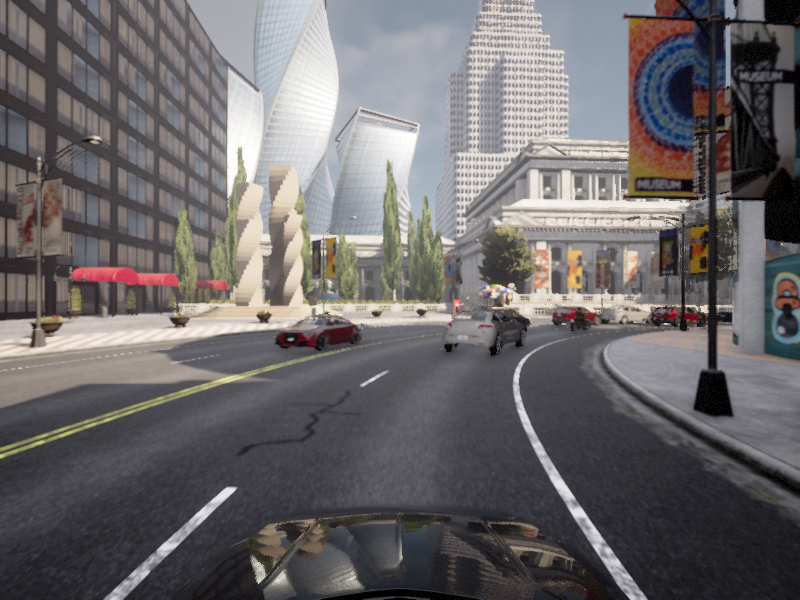vehicle: (435, 308, 528, 358), (268, 313, 365, 354), (469, 308, 534, 334), (702, 305, 776, 325), (645, 305, 711, 327), (546, 305, 604, 327), (595, 305, 656, 325), (649, 307, 715, 323), (565, 306, 594, 332)
